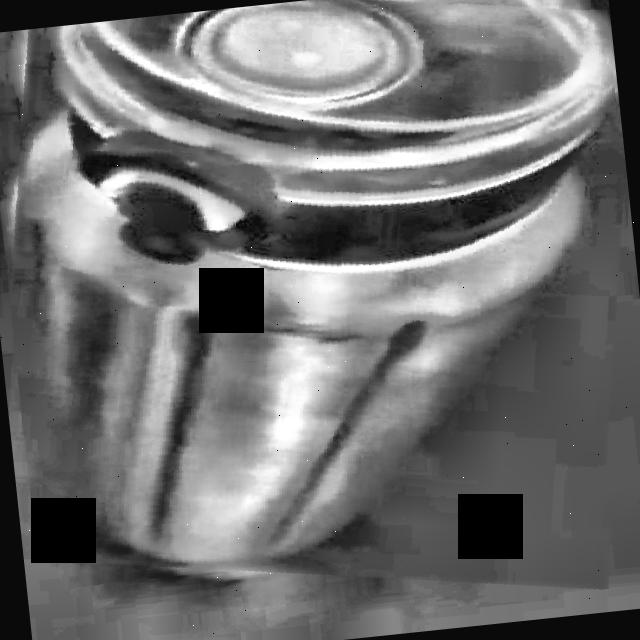bottle: (19, 0, 617, 569)
